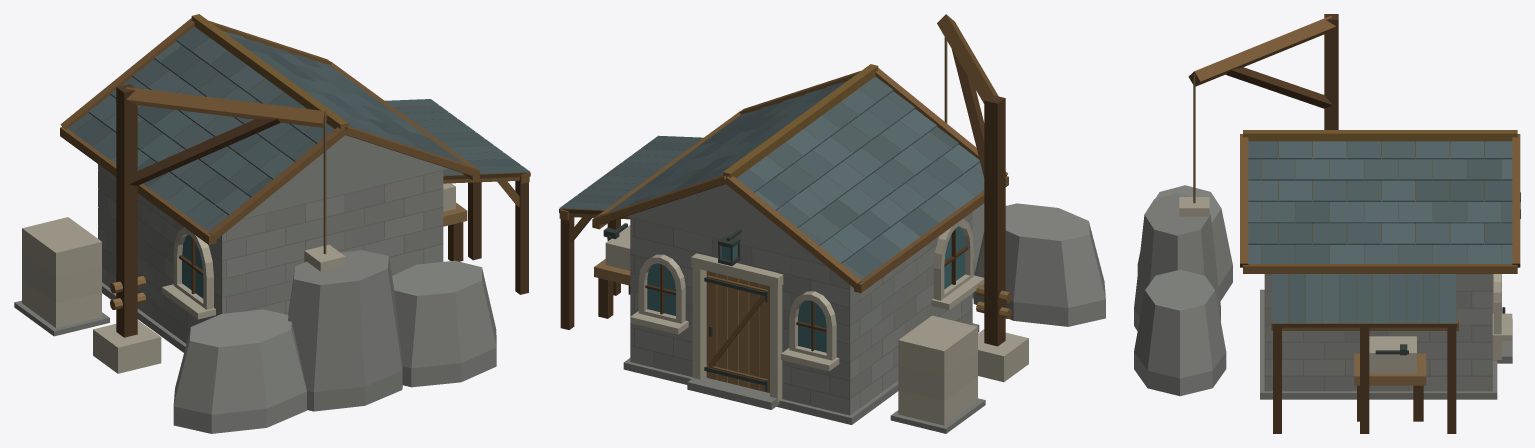
The model's file is StoneQuarry.glb.
3 views of the same model, side by side, from view 1: azimuth 30°, elevation 25°; view 2: azimuth 150°, elevation 25°; view 3: azimuth 270°, elevation 25° (orthographic). The views are drawn at different scales.
Parts seen in each view (by area): view 1: StoneQuarry, StoneQuarryGlass; view 2: StoneQuarry, StoneQuarryDoor, StoneQuarryGlass; view 3: StoneQuarry.
Boxes of the visible parts, x1,y1,x2,y2 form: StoneQuarry: (14,14,530,433); StoneQuarryGlass: (182,235,203,298); StoneQuarry: (559,14,1105,433); StoneQuarryDoor: (704,271,769,392); StoneQuarryGlass: (647,226,965,352); StoneQuarry: (1134,14,1520,433).
Size of the model in its own units: 8.4 by 5.51 by 7.55.
